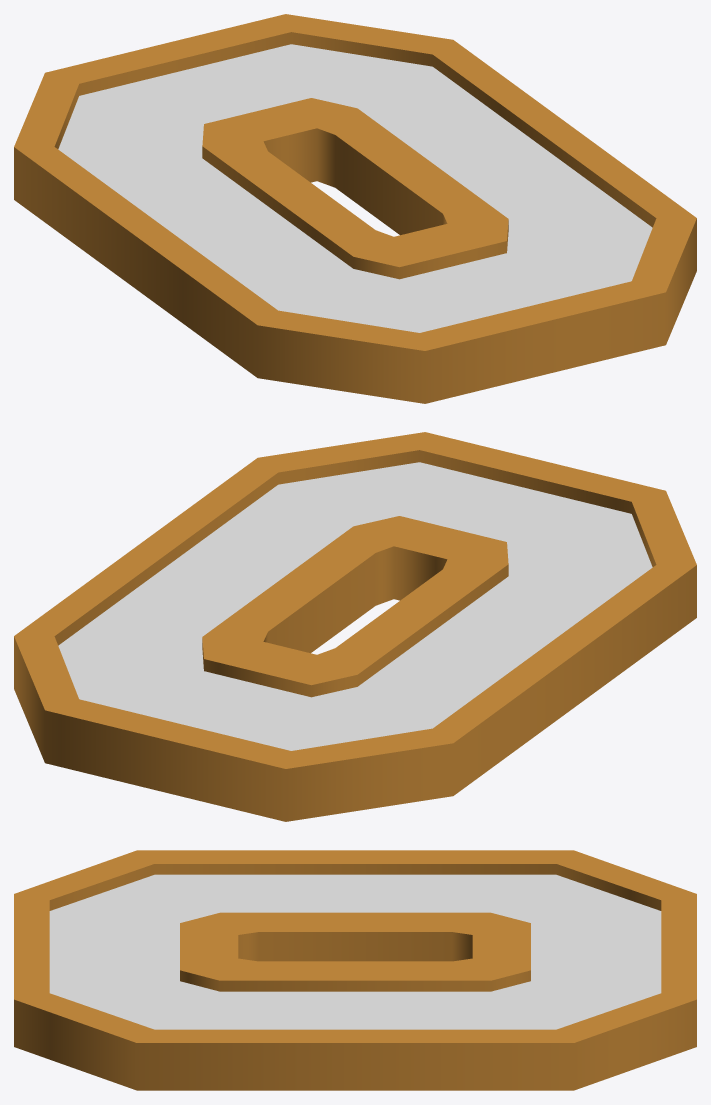
File: Coin.glb
The picture shows the model from 3 angles, top to bottom: view 1: azimuth 30°, elevation 25°; view 2: azimuth 150°, elevation 25°; view 3: azimuth 270°, elevation 25°; orthographic projection. The views are drawn at different scales.
Visible parts, largest first — view 1: Coin; view 2: Coin; view 3: Coin.
Part boxes in pixels (x1,y1,x2,y2): Coin: (14,14,696,403); Coin: (14,432,696,821); Coin: (14,850,696,1090).
Bounding box in the file's own units: 0.0452 × 0.0052 × 0.0678.
